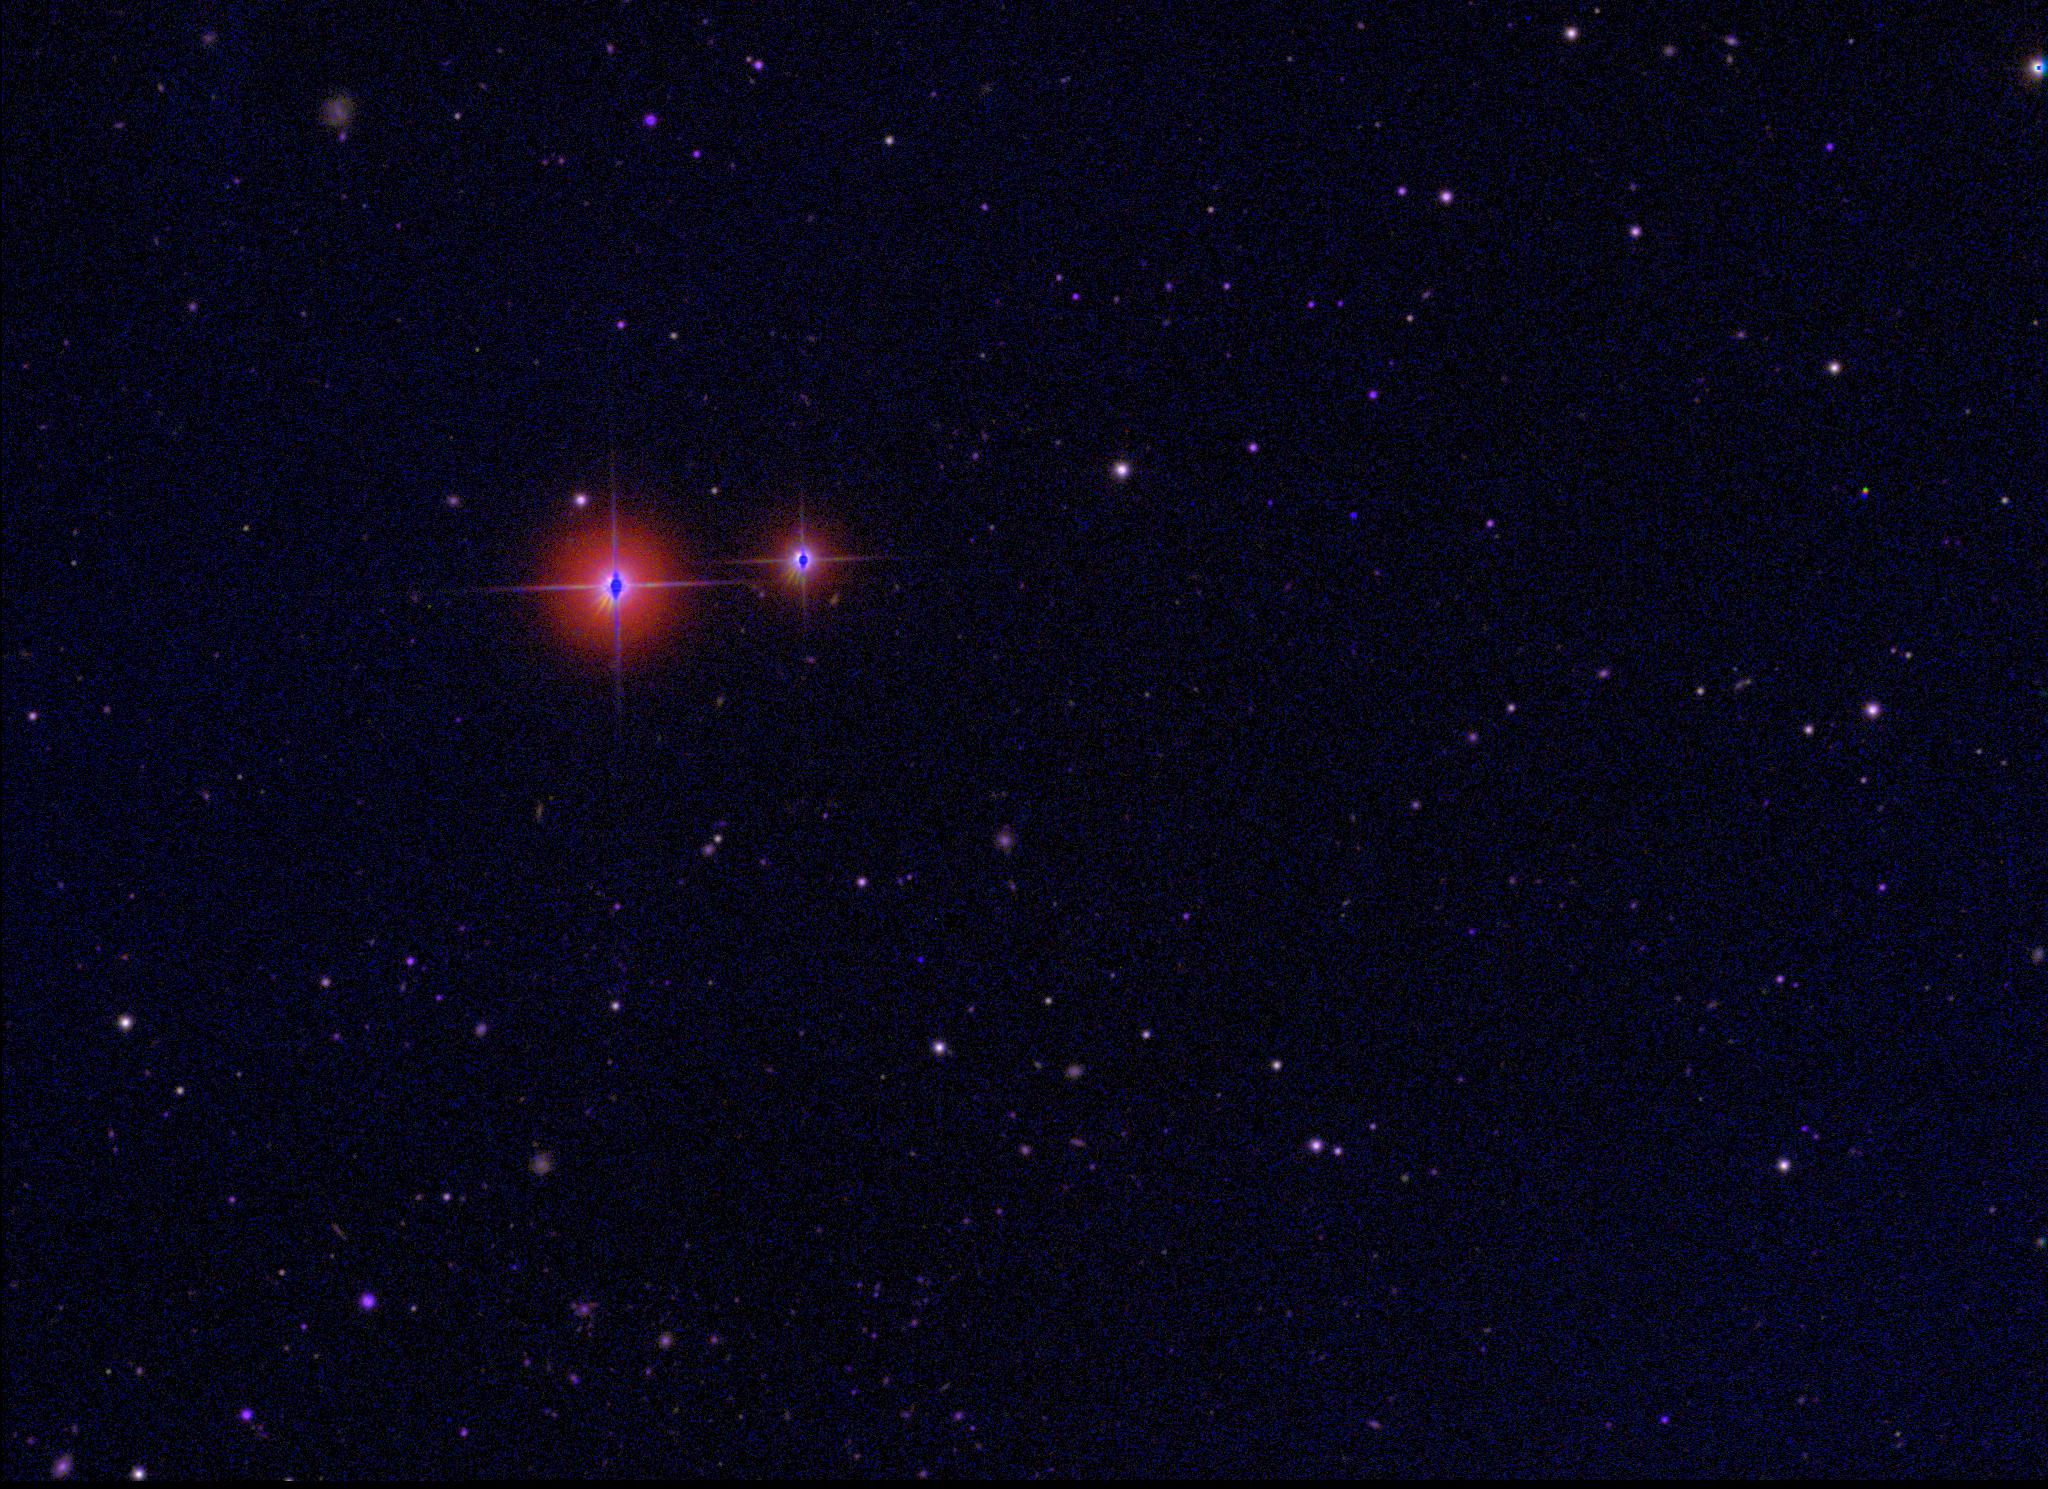L: (916, 950, 930, 964)
